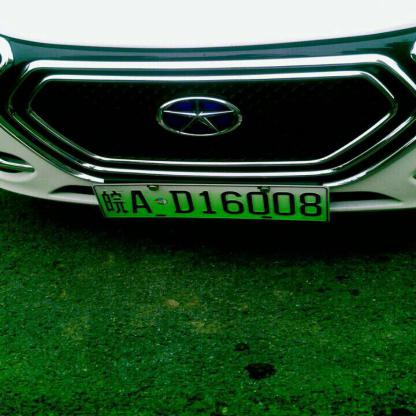lp: (89, 185, 330, 221)
